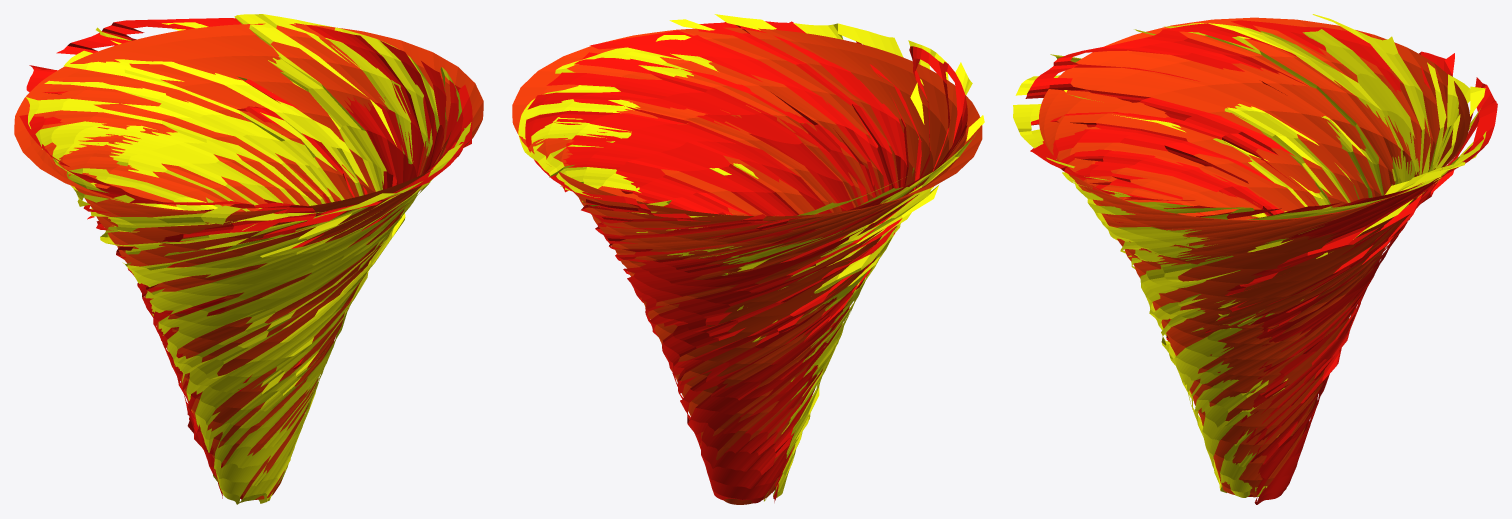
Rendered from tornado.obj.
3 views of the same model, side by side, from view 1: azimuth 30°, elevation 25°; view 2: azimuth 150°, elevation 25°; view 3: azimuth 270°, elevation 25° (orthographic).
Bounding box in the file's own units: 1019 × 906 × 1027.
